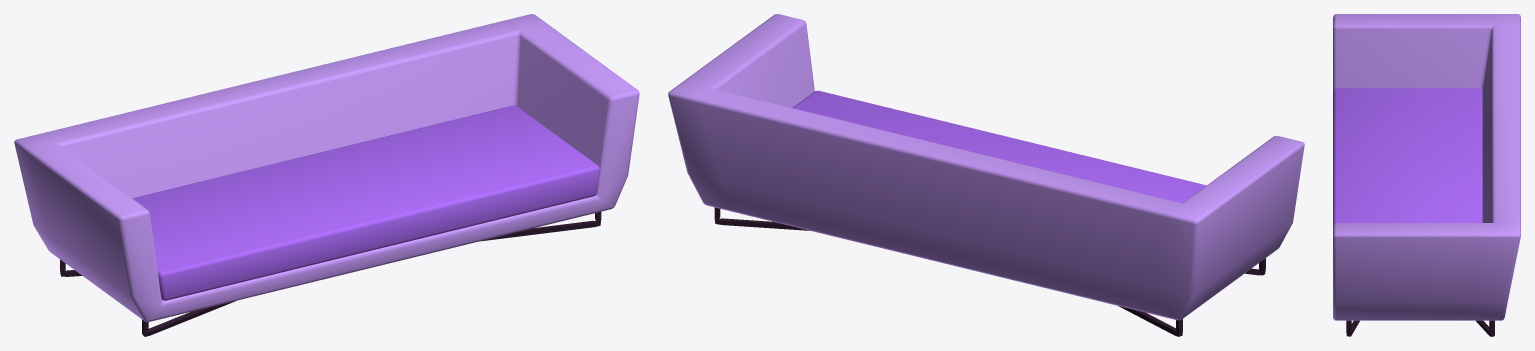
File: Prop_Sofa_05_A.fbx
The picture shows the model from 3 angles, left to right: view 1: azimuth 30°, elevation 25°; view 2: azimuth 150°, elevation 25°; view 3: azimuth 270°, elevation 25°; orthographic projection. The views are drawn at different scales.
Parts seen in each view (by area): view 1: Prop_Sofa_05_A; view 2: Prop_Sofa_05_A; view 3: Prop_Sofa_05_A.
Boxes of the visible parts, bbox=[...] form: Prop_Sofa_05_A: bbox=[14, 14, 639, 336]; Prop_Sofa_05_A: bbox=[668, 14, 1304, 336]; Prop_Sofa_05_A: bbox=[1333, 14, 1520, 336].
Bounding box in the file's own units: 258 × 63.16 × 92.25.
